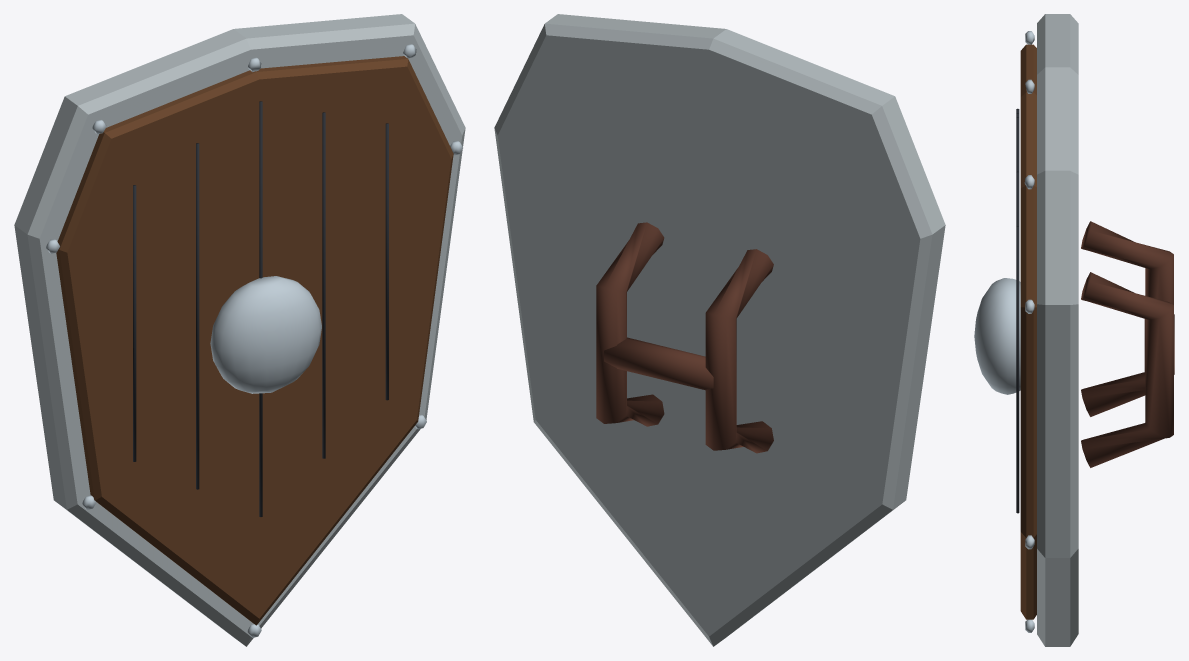
File: wooden-shield-standard-high.glb
The picture shows the model from 3 angles, left to right: view 1: azimuth 30°, elevation 25°; view 2: azimuth 150°, elevation 25°; view 3: azimuth 270°, elevation 25°; orthographic projection. The views are drawn at different scales.
Visible parts, largest first — view 1: wooden-shield__standard; view 2: wooden-shield__standard; view 3: wooden-shield__standard.
Part boxes in pixels (x1,y1,x2,y2): wooden-shield__standard: (14,14,465,646); wooden-shield__standard: (494,14,945,646); wooden-shield__standard: (974,14,1174,646).
Size of the model in its own units: 0.52 by 0.69 by 0.2162.
